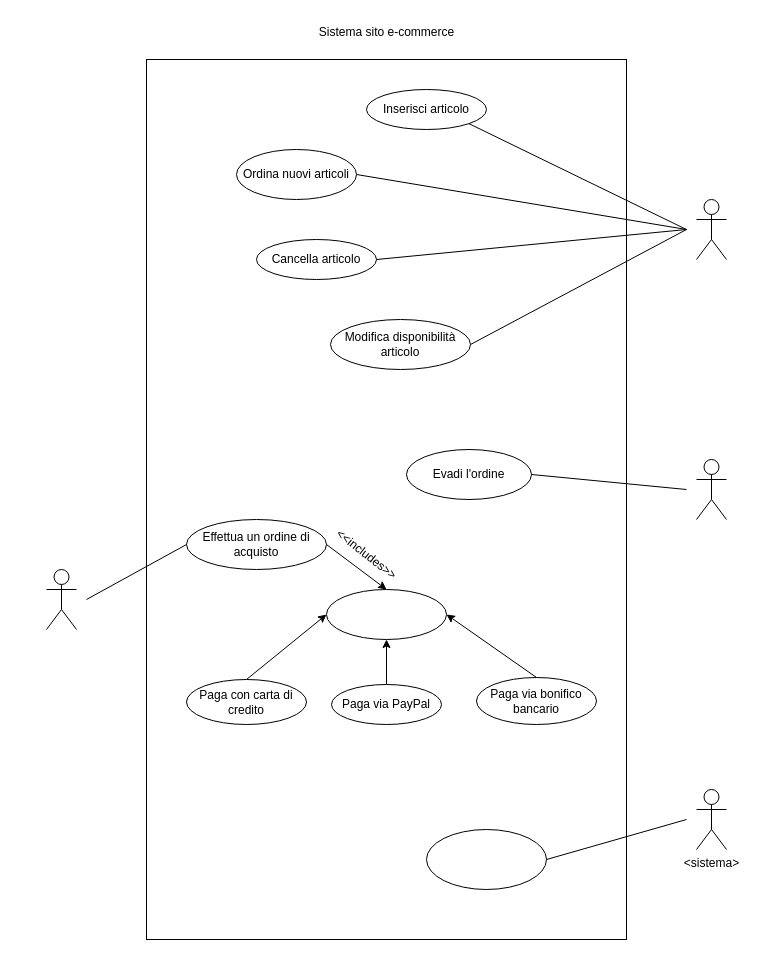
This 780x957 diagram has some shape labels left out. Here are the shapes that lost their labels. From the top down, the centre of each, then its label:
At point 711,229: "Amministratore sito".
At point 711,489: "Reparto ordini".
At point 61,599: "Utente registrato".
At point 386,614: "Effettua pagamento".
At point 486,859: "Rendi disponibile il catalogo di articoli".
